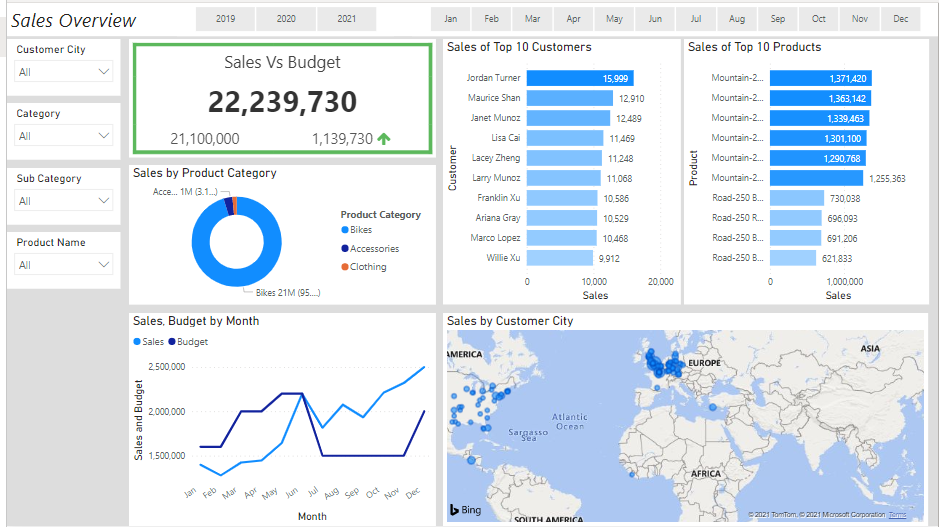

The dashboard page shown, as its layout file describes it:
{"tool":"powerbi","page":{"name":"Sales Overview","canvas":[1280,720],"ordinal":0},"visuals":[{"type":"textbox","box":[0.5,0,1279.5,46.9],"z":0},{"type":"slicer","fields":{"Values":["DIM_Customers.Customer City"]},"box":[0,51.1,156.2,78.1],"z":1000},{"type":"slicer","fields":{"Values":["DIM_Product.Product Category"]},"box":[0,139.2,156.2,78.1],"z":2000},{"type":"slicer","fields":{"Values":["DIM_Product.Sub Category"]},"box":[0,228.6,156.2,78.1],"z":3000},{"type":"slicer","fields":{"Values":["DIM_Product.Product Name"]},"box":[0,316.7,156.2,78.1],"z":4000},{"type":"slicer","fields":{"Values":["DIM_Calender.Year"]},"box":[234.3,0,298.2,46.9],"z":5000},{"type":"slicer","fields":{"Values":["DIM_Calender.MonthShort"]},"box":[556.7,0,722.8,46.9],"z":6000},{"type":"donutChart","fields":{"Category":["DIM_Product.Product Category"],"Y":["FACT_InternetSales.Sales"]},"box":[167.6,224.4,421.8,191.7],"z":7000},{"type":"lineChart","title":"Sales, Budget by Month","fields":{"Y":["FACT_InternetSales.Sales","FACTS_SalesBudget.Budget_Amount"],"Category":["DIM_Calender.MonthShort"]},"box":[167.6,427.5,421.8,292.5],"z":8000},{"type":"clusteredBarChart","title":"Sales of Top 10 Customers","fields":{"Y":["FACT_InternetSales.Sales"],"Category":["DIM_Customers.Full Name"]},"box":[599.3,51.1,326.6,365],"z":9000},{"type":"clusteredBarChart","title":"Sales of Top 10 Products","fields":{"Y":["FACT_InternetSales.Sales"],"Category":["DIM_Product.Product Name"]},"box":[930.2,51.1,336.6,365],"z":10000},{"type":"map","fields":{"Category":["DIM_Customers.Customer City"],"Size":["FACT_InternetSales.Sales"]},"box":[599.3,427.5,667.5,292.5],"z":11000},{"type":"BBED0A4D4D8D44CE93CF2DAFADEE466C","fields":{"actual":["FACT_InternetSales.Sales"],"target1":["FACTS_SalesBudget.Budget_Amount"],"target2":["Key_Measures.Sales - Budget Amount"]},"box":[167.6,51.1,421.8,163.3],"z":12000}]}

Visuals, with their boxes in screenshot pixels (x1, y1, x2, y2), scaled from the page's 1280x720 canvas onto the 939x527 screenshot:
textbox: x1=0, y1=0, x2=938, y2=34
slicer - DIM_Customers.Customer City: x1=0, y1=37, x2=115, y2=95
slicer - DIM_Product.Product Category: x1=0, y1=102, x2=115, y2=159
slicer - DIM_Product.Sub Category: x1=0, y1=167, x2=115, y2=224
slicer - DIM_Product.Product Name: x1=0, y1=232, x2=115, y2=289
slicer - DIM_Calender.Year: x1=172, y1=0, x2=391, y2=34
slicer - DIM_Calender.MonthShort: x1=408, y1=0, x2=938, y2=34
donutChart - DIM_Product.Product Category x FACT_InternetSales.Sales: x1=123, y1=164, x2=432, y2=305
"Sales, Budget by Month" lineChart: x1=123, y1=313, x2=432, y2=526
"Sales of Top 10 Customers" clusteredBarChart: x1=440, y1=37, x2=679, y2=305
"Sales of Top 10 Products" clusteredBarChart: x1=682, y1=37, x2=929, y2=305
map - DIM_Customers.Customer City x FACT_InternetSales.Sales: x1=440, y1=313, x2=929, y2=526
BBED0A4D4D8D44CE93CF2DAFADEE466C - FACT_InternetSales.Sales x FACTS_SalesBudget.Budget_Amount: x1=123, y1=37, x2=432, y2=157
